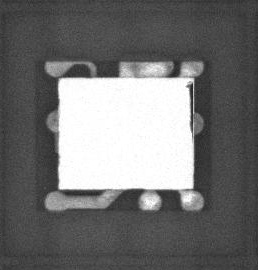DIE_BROKEN: (184, 80, 195, 141)
